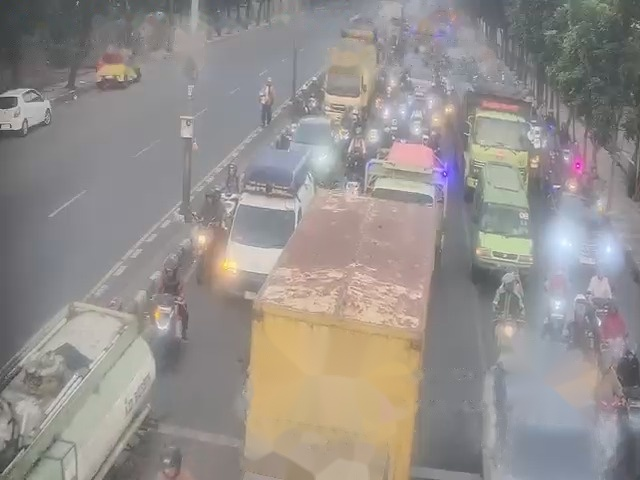Bis: (325, 38, 373, 117)
Mobil: (231, 149, 309, 294), (472, 169, 533, 274), (0, 82, 50, 137)
Motor: (553, 220, 576, 263), (597, 228, 617, 268), (156, 291, 171, 344), (550, 287, 566, 325), (500, 319, 519, 345), (592, 194, 608, 222), (195, 225, 209, 257), (346, 146, 359, 171), (549, 174, 561, 201), (221, 191, 232, 214)
Truk: (463, 85, 528, 179), (325, 38, 373, 117)
